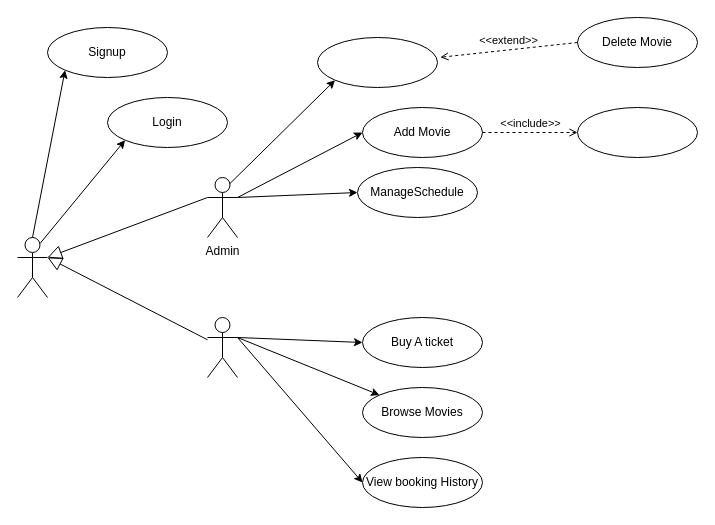
Some shapes in this 715 by 525 pixel diagram are drawn without their labels. Each missing label, with the centre of its shape:
Add MovieCrew: the point at 637,132
Customer: the point at 222,347
User: the point at 32,267
View Movie List: the point at 377,62
